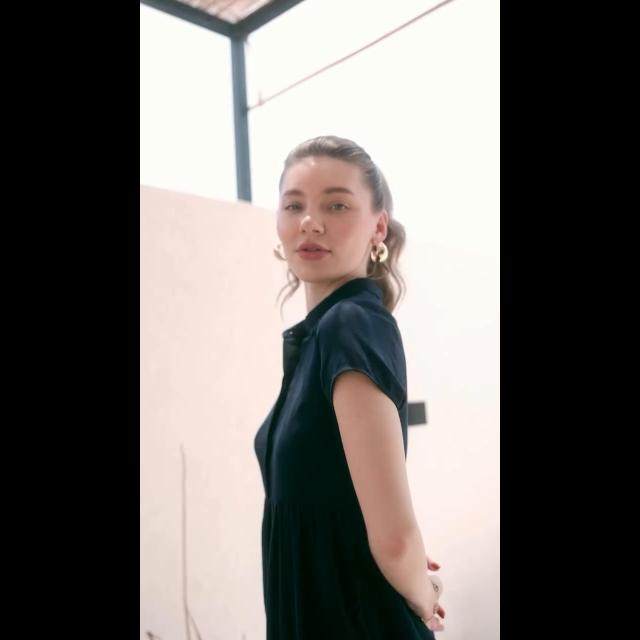dress: (254, 308, 428, 640)
ear ring: (370, 244, 390, 264)
